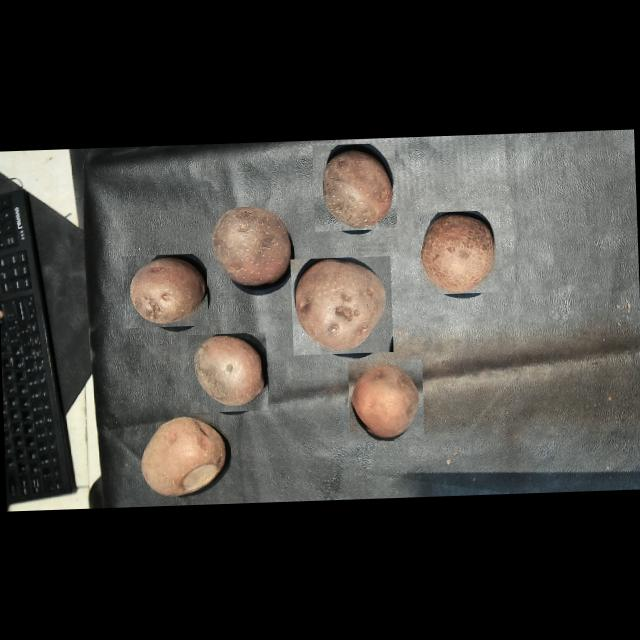Damaged potato: (132, 411, 230, 499)
Diseased-fungal potato: (290, 256, 393, 354), (312, 142, 397, 231), (211, 202, 294, 291), (417, 210, 502, 294), (188, 332, 268, 413), (122, 253, 208, 328), (348, 358, 424, 442)
